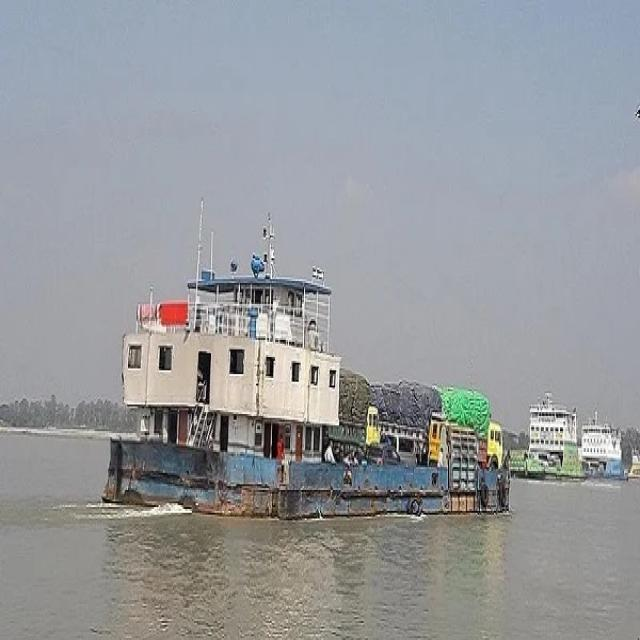cargoship: (90, 234, 508, 535), (520, 406, 590, 476), (581, 383, 634, 467)
